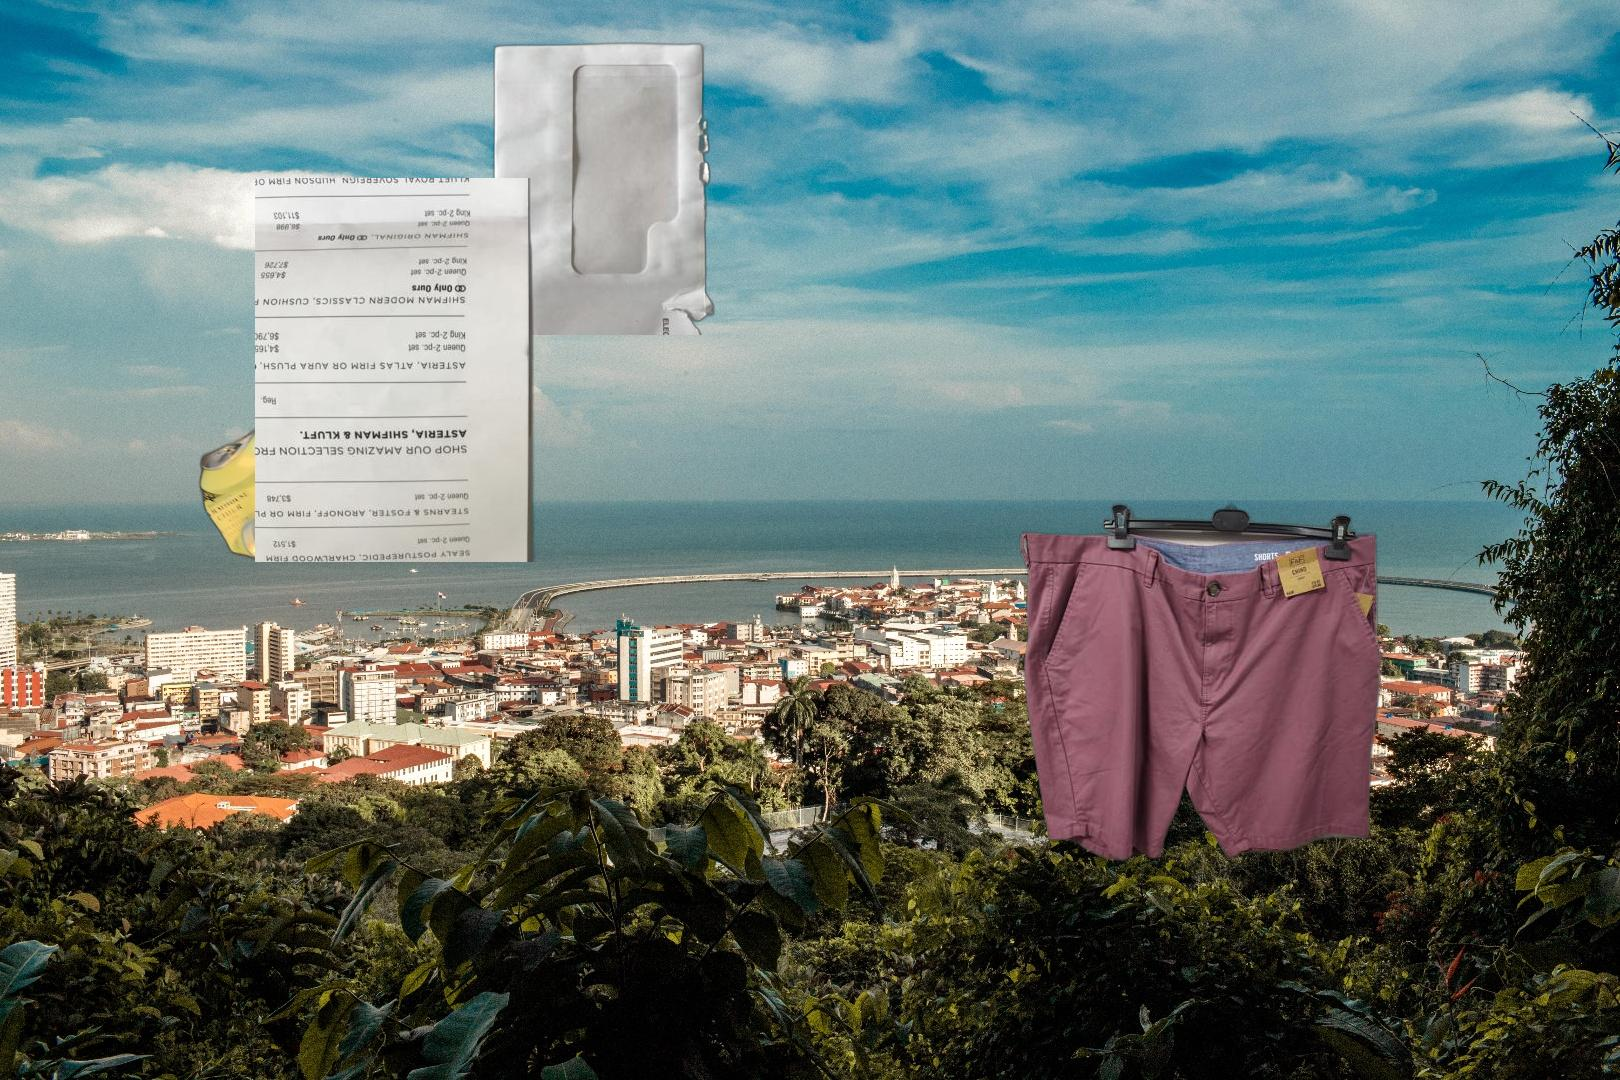clothes: (1016, 498, 1384, 865)
metal-cans: (195, 425, 344, 567)
paper: (256, 178, 538, 562), (486, 41, 720, 335)
